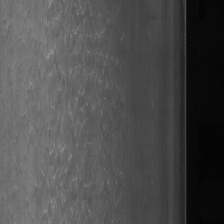silk_spot: (28, 137, 132, 220), (36, 58, 129, 131), (43, 4, 117, 52)
